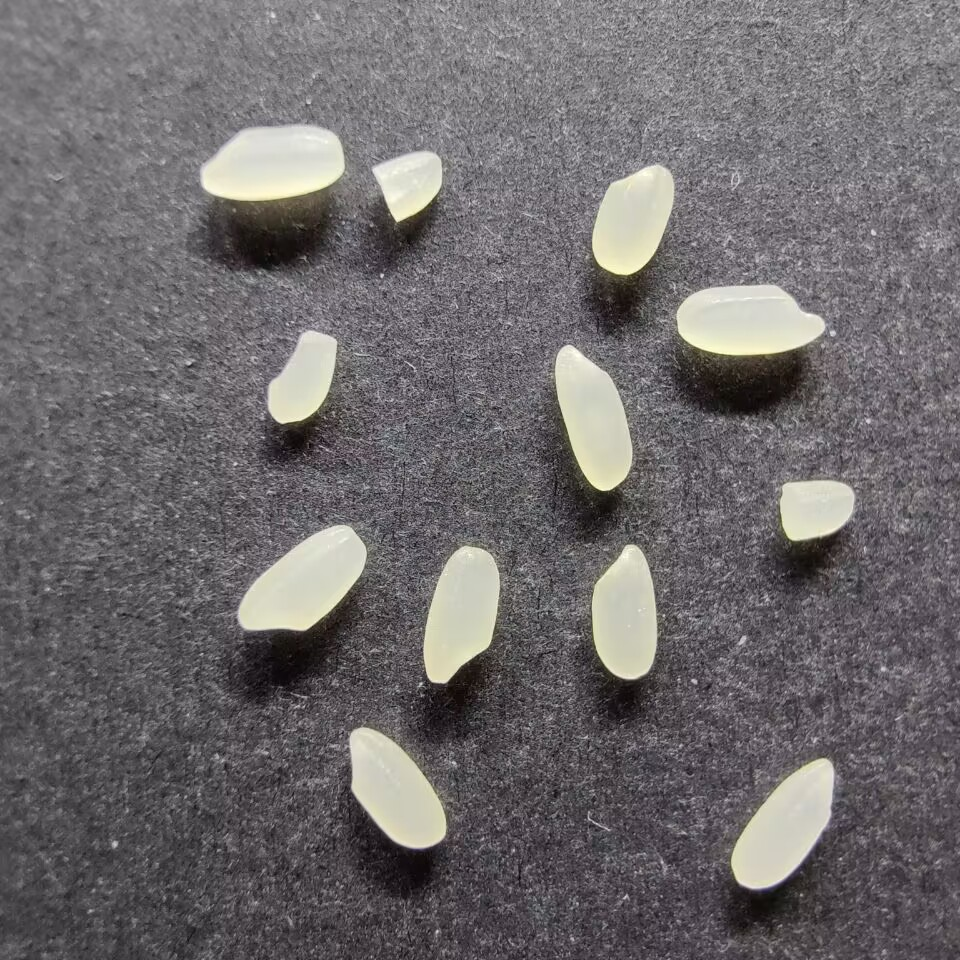broken: (266, 331, 336, 423), (370, 151, 442, 223), (778, 478, 855, 542)
rice: (236, 524, 366, 632), (730, 758, 835, 889), (347, 727, 446, 850), (554, 344, 633, 492), (200, 124, 344, 201), (422, 545, 500, 685), (676, 284, 824, 355), (590, 164, 675, 275), (590, 544, 656, 680)
